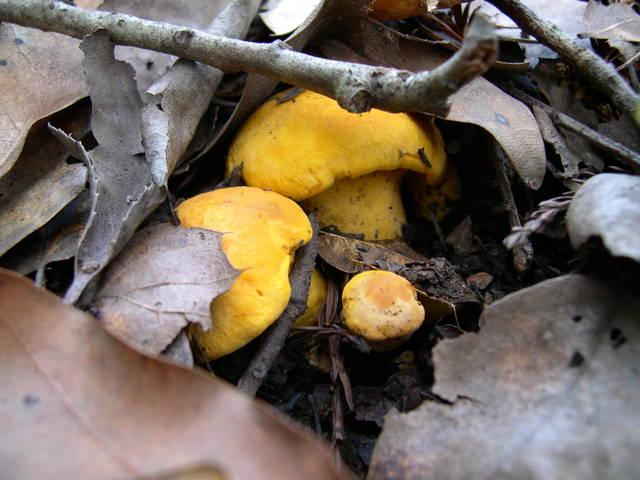Edible Mushroom: (224, 83, 447, 242), (171, 184, 314, 360), (340, 268, 425, 348)
